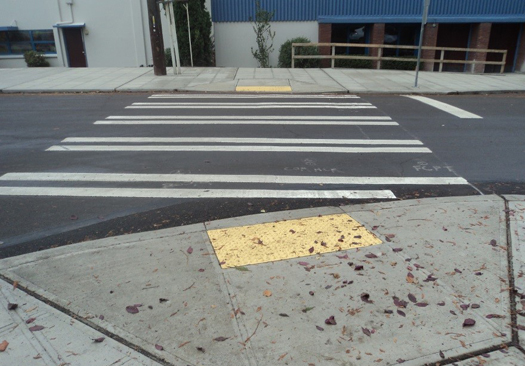ramp: (117, 195, 458, 285), (199, 71, 327, 110)
